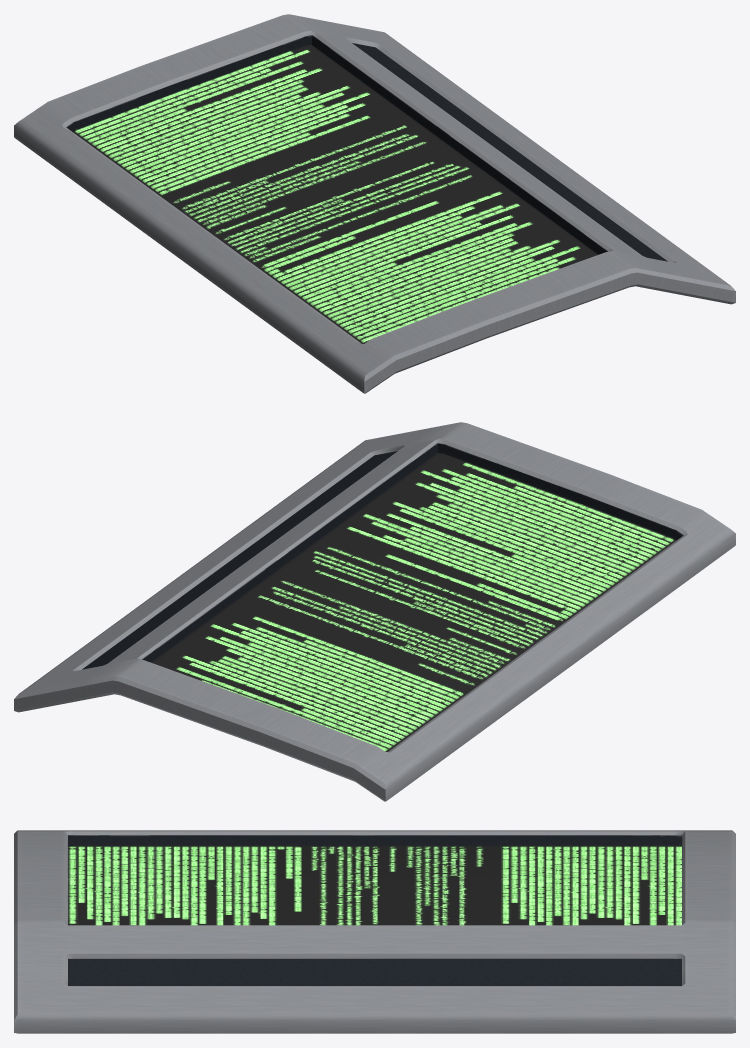
Rendered from datapad.glb.
3 renders of one model, top to bottom at view 1: azimuth 30°, elevation 25°; view 2: azimuth 150°, elevation 25°; view 3: azimuth 270°, elevation 25°, orthographic. The views are drawn at different scales.
Parts seen in each view (by area): view 1: datapad_low_poly; view 2: datapad_low_poly; view 3: datapad_low_poly.
Boxes of the visible parts, x1,y1,x2,y2 form: datapad_low_poly: (14, 14, 735, 393); datapad_low_poly: (14, 422, 735, 801); datapad_low_poly: (14, 830, 735, 1033).
Bounding box in the file's own units: 362 × 56.53 × 591.
1 material, 1 textured.
